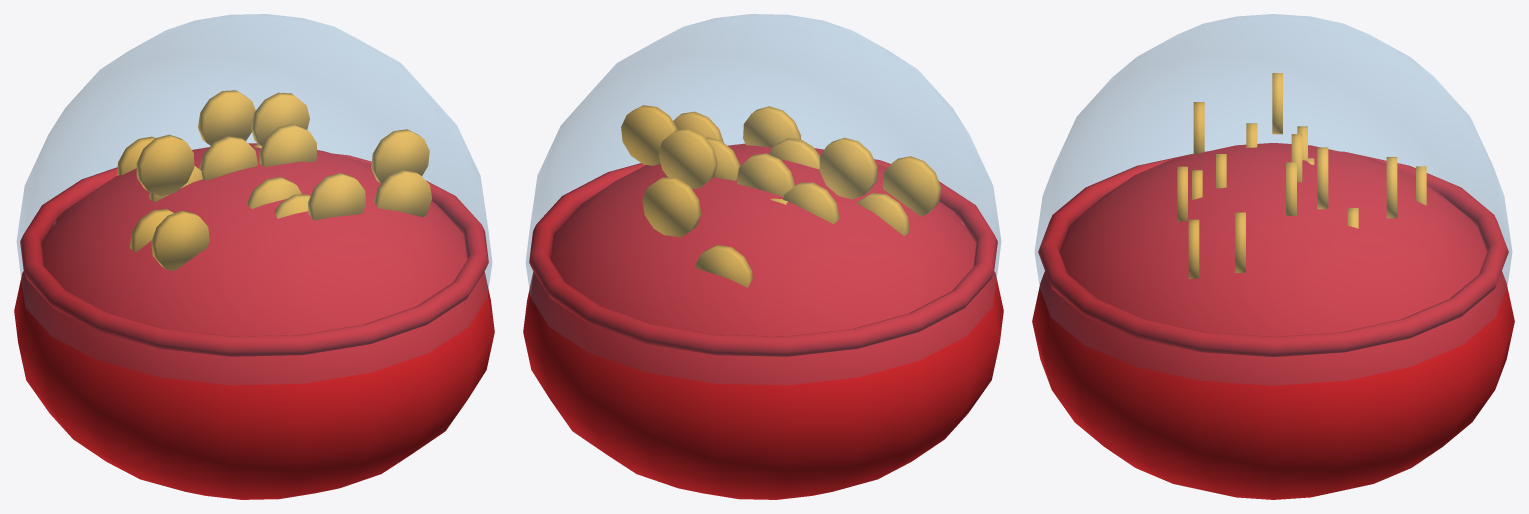
File: SM_EpicCapsule.fbx
3 renders of one model, left to right at view 1: azimuth 30°, elevation 25°; view 2: azimuth 150°, elevation 25°; view 3: azimuth 270°, elevation 25°, orthographic.
Visible parts, largest first — view 1: SM_EpicCapsule; view 2: SM_EpicCapsule; view 3: SM_EpicCapsule.
Boxes of the visible parts, <box> form: SM_EpicCapsule: <box>14,14,494,499</box>; SM_EpicCapsule: <box>523,14,1003,499</box>; SM_EpicCapsule: <box>1032,14,1514,499</box>.
Size of the model in its own units: 2.02 by 2.02 by 2.
